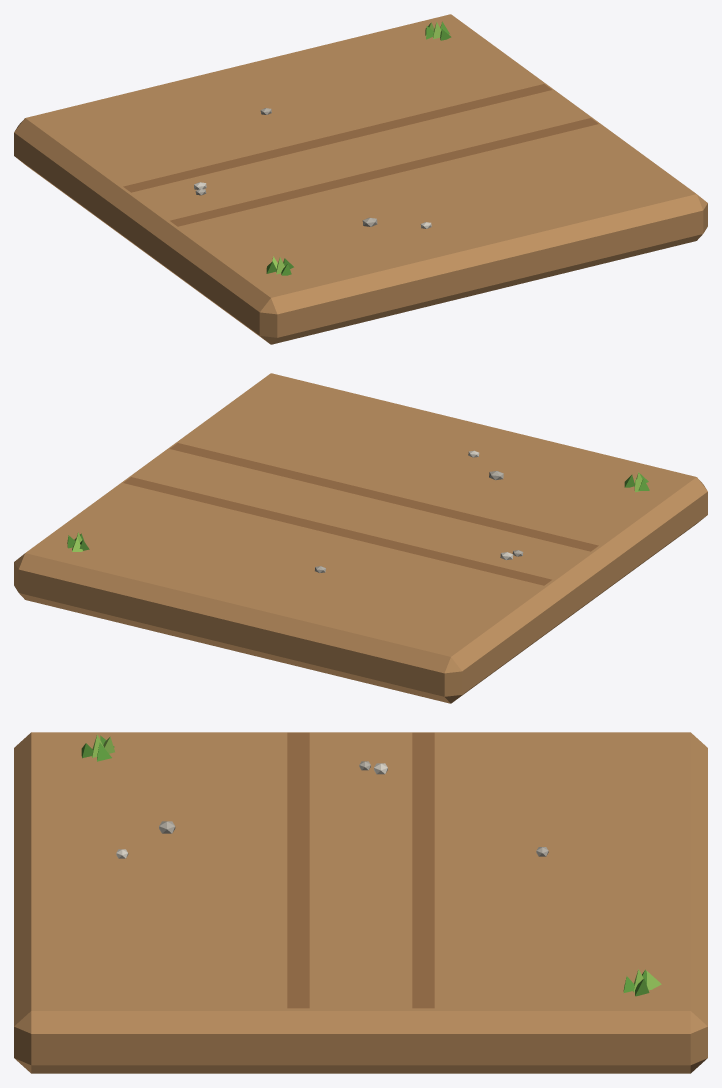
File: tile_dirt.fbx
3 renders of one model, top to bottom at view 1: azimuth 30°, elevation 25°; view 2: azimuth 150°, elevation 25°; view 3: azimuth 270°, elevation 25°, orthographic. The views are drawn at different scales.
Parts seen in each view (by area): view 1: tile_dirt; view 2: tile_dirt; view 3: tile_dirt.
Boxes of the visible parts, box(x1,y1,x2,y2) form: tile_dirt: box(14, 14, 707, 344); tile_dirt: box(14, 373, 707, 703); tile_dirt: box(14, 732, 707, 1073).
Bounding box in the file's own units: 1 × 0.132 × 1.
